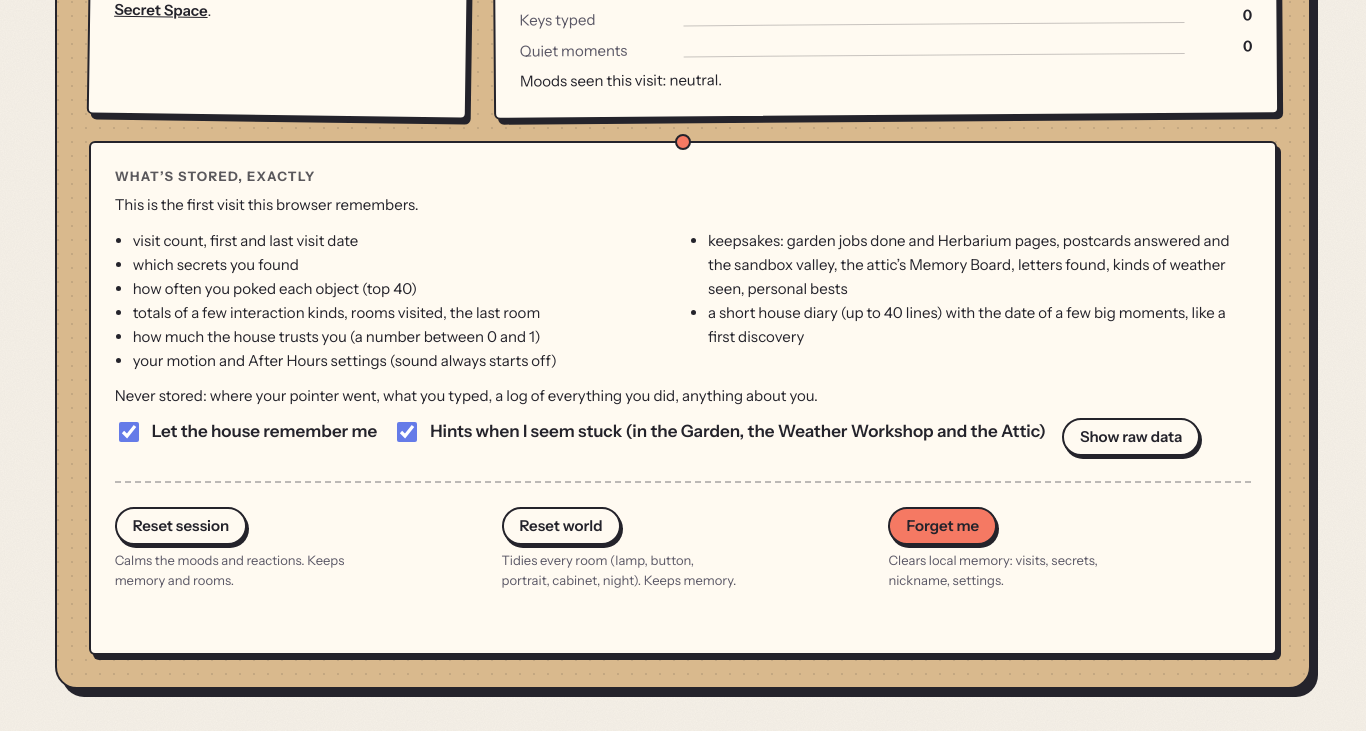
Test: <MemoryRoom /> › Forget me asks for confirmation inline, then clears
(page scrolled)
Click the button "Forget me". click: (943, 526)
box: [888, 507, 997, 545]
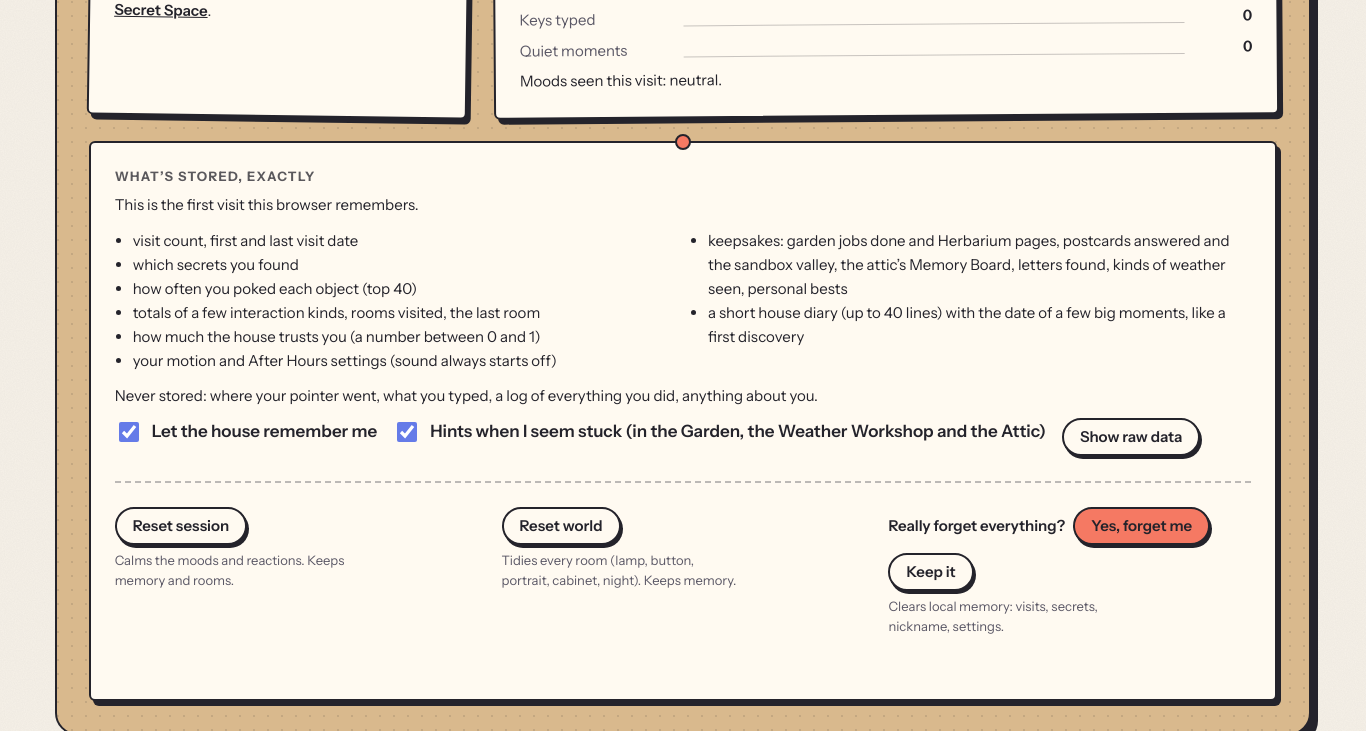
Click the button "Yes, forget me". click: (1142, 526)
box: [1073, 507, 1210, 545]
(page scrolled)
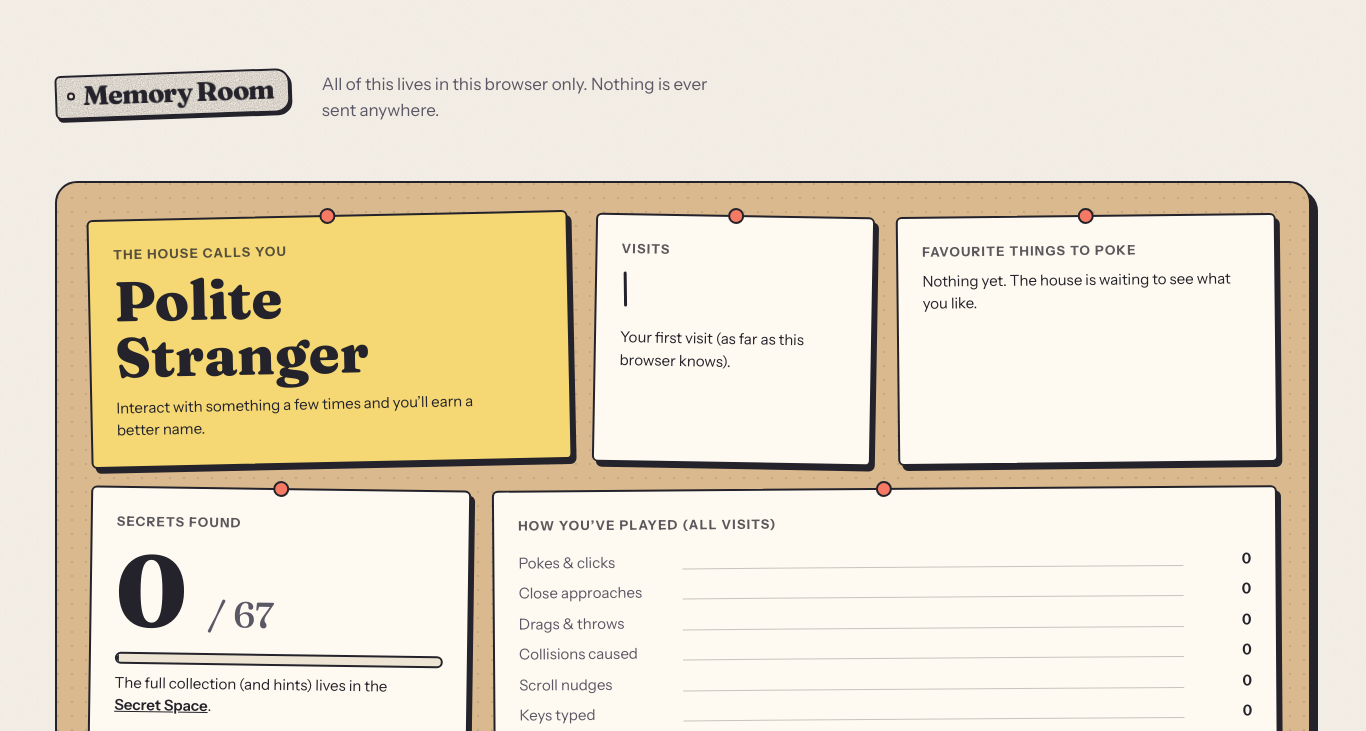
Now the text "Polite Stranger" is shown, box [113, 263, 369, 391]
